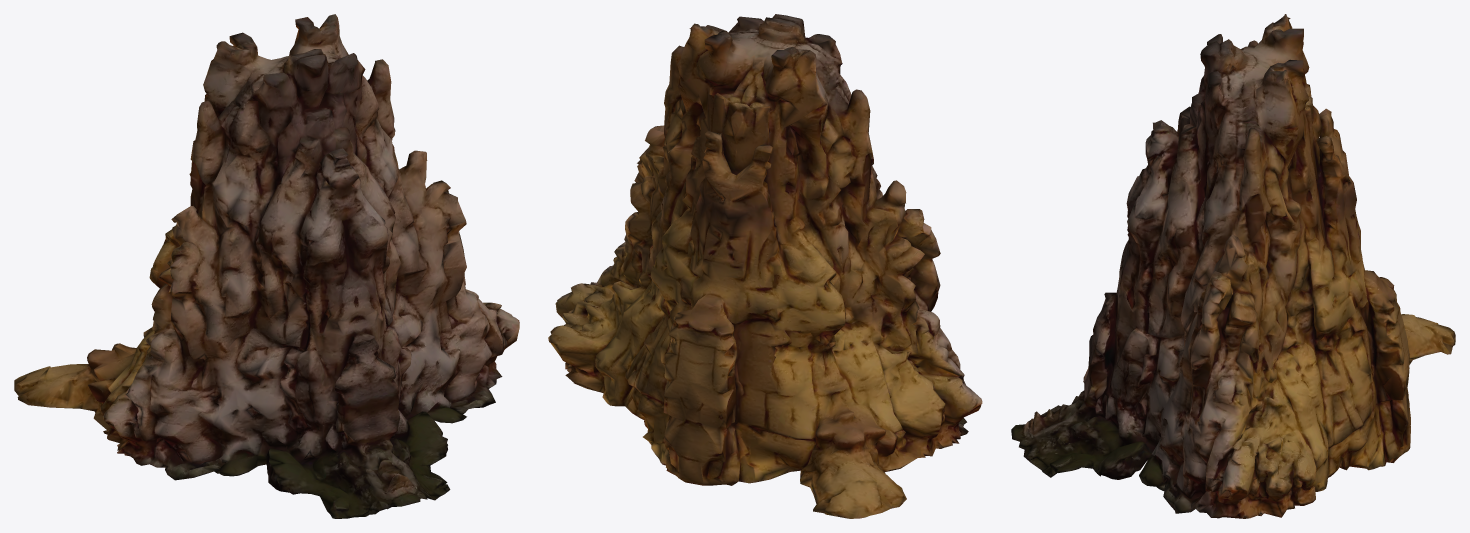
File: cliff.glb
3 views of the same model, side by side, from view 1: azimuth 30°, elevation 25°; view 2: azimuth 150°, elevation 25°; view 3: azimuth 270°, elevation 25° (orthographic). The views are drawn at different scales.
Parts seen in each view (by area): view 1: tripo_node_2378b8b3-1387-41d0-a9b0-488c751338ee; view 2: tripo_node_2378b8b3-1387-41d0-a9b0-488c751338ee; view 3: tripo_node_2378b8b3-1387-41d0-a9b0-488c751338ee.
Part boxes in pixels (x1,y1,x2,y2): tripo_node_2378b8b3-1387-41d0-a9b0-488c751338ee: (14,14,519,518); tripo_node_2378b8b3-1387-41d0-a9b0-488c751338ee: (548,14,982,518); tripo_node_2378b8b3-1387-41d0-a9b0-488c751338ee: (1011,14,1455,518).
Bounding box in the file's own units: 1.11 × 0.9996 × 0.991.
1 material, 1 textured.
